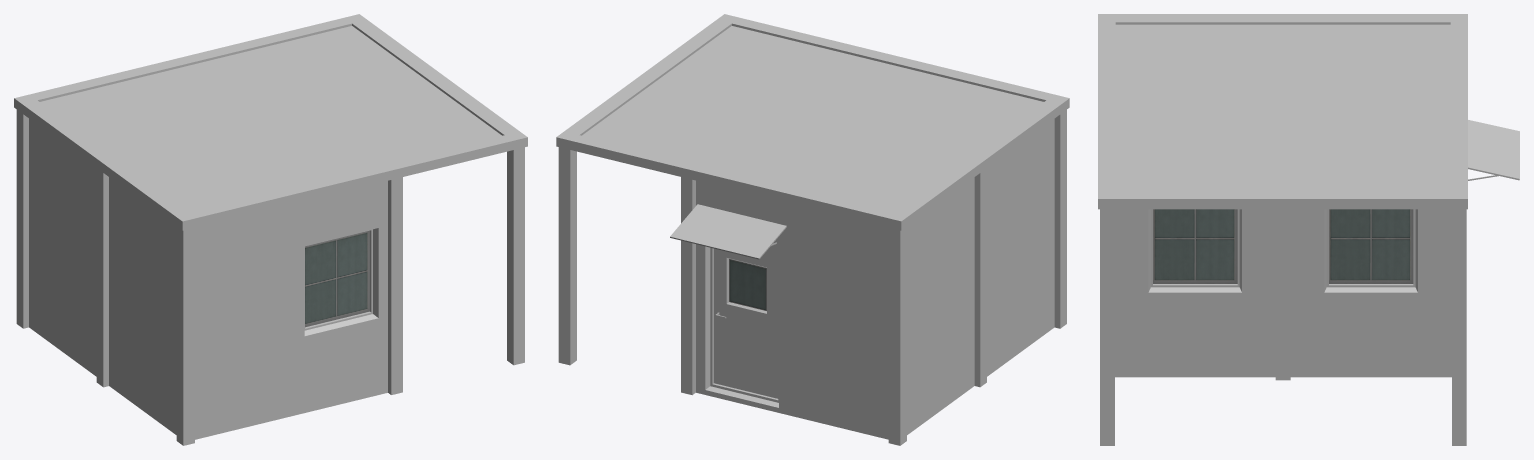
Rendered from guard_building.fbx.
3 views of the same model, side by side, from view 1: azimuth 30°, elevation 25°; view 2: azimuth 150°, elevation 25°; view 3: azimuth 270°, elevation 25° (orthographic). The views are drawn at different scales.
Visible parts, largest first — view 1: guard_house; view 2: guard_house; view 3: guard_house.
Boxes of the visible parts, x1,y1,x2,y2 form: guard_house: [14, 14, 527, 445]; guard_house: [556, 14, 1069, 445]; guard_house: [1098, 14, 1519, 445].
Size of the model in its own units: 338 by 211 by 326.
